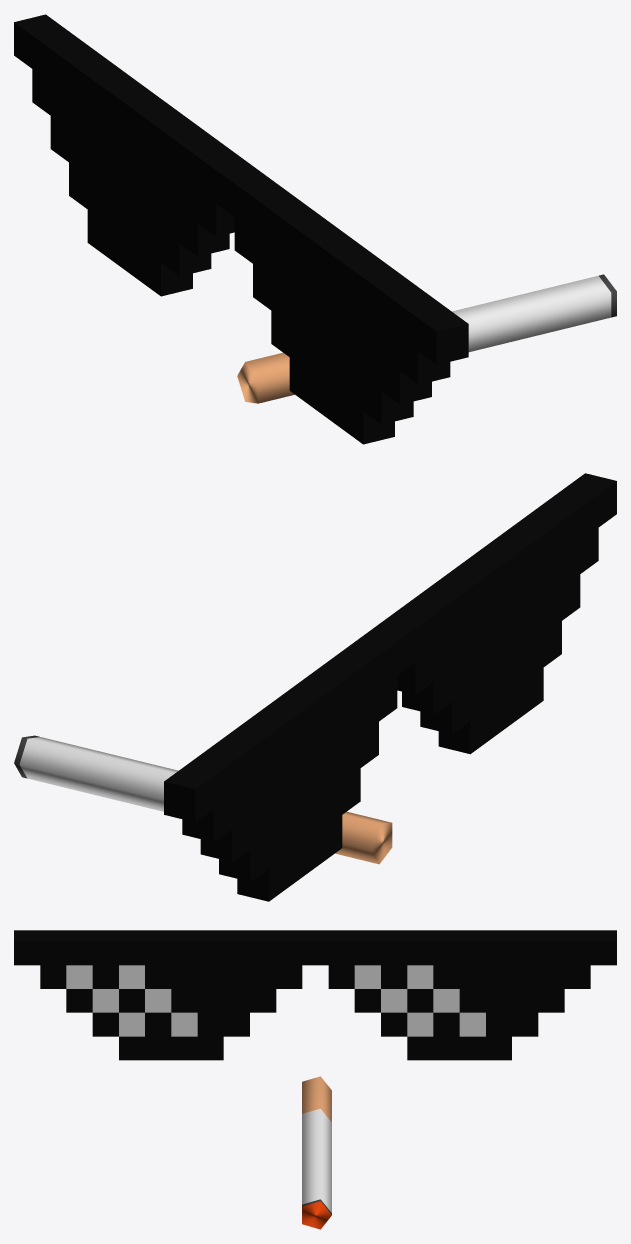
The model's file is Thug.fbx.
3 renders of one model, top to bottom at view 1: azimuth 30°, elevation 25°; view 2: azimuth 150°, elevation 25°; view 3: azimuth 270°, elevation 25°, orthographic. The views are drawn at different scales.
Parts seen in each view (by area): view 1: Thug, Cylinder; view 2: Thug, Cylinder; view 3: Thug, Cylinder.
Part boxes in pixels (<box>): Thug: <box>14,14,468,444</box>; Cylinder: <box>237,274,616,403</box>; Thug: <box>164,473,616,901</box>; Cylinder: <box>14,735,392,864</box>; Thug: <box>14,930,616,1060</box>; Cylinder: <box>302,1076,331,1229</box>.
Bounding box in the file's own units: 12 × 7 × 22.99.
